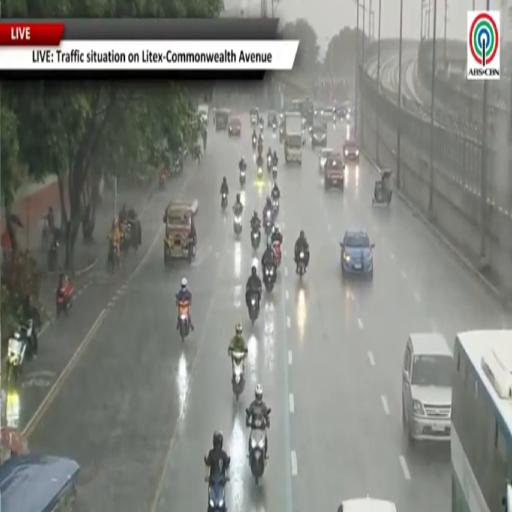bus: (451, 330, 511, 511), (0, 455, 79, 511), (290, 99, 314, 125)
car: (402, 333, 453, 441), (340, 230, 374, 278), (324, 152, 345, 189), (338, 498, 397, 511), (311, 122, 327, 148), (343, 139, 359, 163), (319, 149, 333, 172), (216, 109, 229, 131), (314, 105, 332, 119), (229, 118, 241, 137), (250, 107, 260, 125), (267, 110, 277, 127), (279, 120, 284, 142)
jeepney: (164, 200, 198, 264)
motorcycle: (6, 319, 34, 382), (246, 410, 267, 485), (230, 351, 245, 401), (208, 476, 229, 511), (56, 281, 74, 317), (178, 301, 190, 341), (248, 293, 259, 325), (48, 236, 58, 271), (108, 240, 119, 271), (263, 267, 276, 292), (42, 216, 51, 248), (264, 209, 274, 236), (122, 222, 131, 252), (297, 251, 305, 279), (273, 240, 281, 266), (251, 230, 260, 250), (234, 215, 242, 235), (272, 198, 279, 216), (159, 173, 166, 189), (221, 192, 227, 210), (267, 155, 272, 174), (240, 168, 245, 186), (272, 165, 277, 181), (252, 136, 257, 150), (258, 142, 263, 155), (259, 120, 264, 133), (258, 166, 263, 179), (332, 113, 337, 125), (273, 122, 276, 134)
truck: (284, 112, 303, 165)
